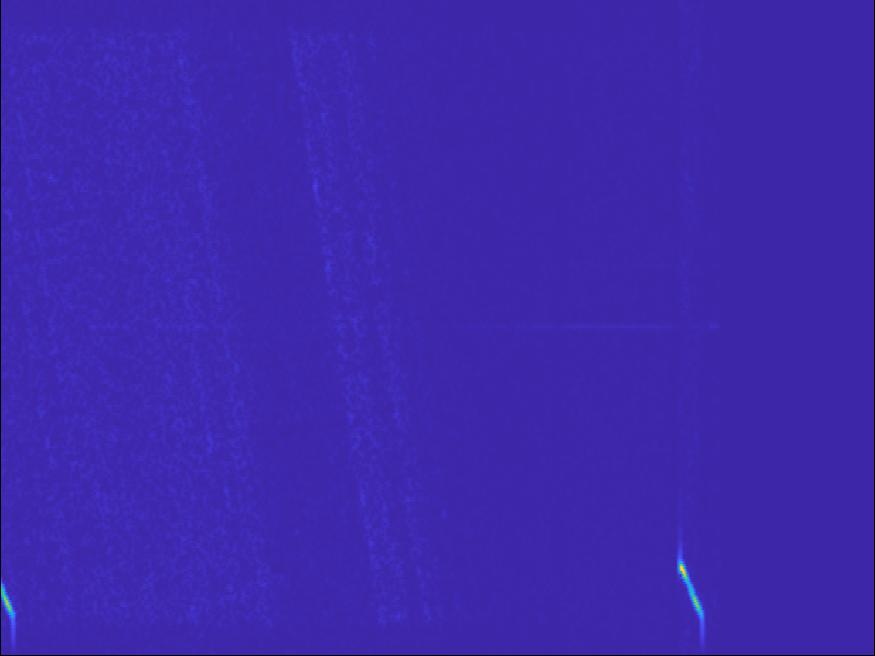Interference: (649, 496, 875, 656), (349, 288, 561, 368), (4, 309, 135, 343), (233, 408, 326, 445)
